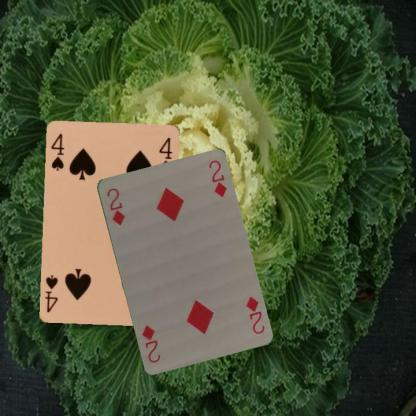2d: (243, 294, 266, 335), (104, 185, 126, 226)
4s: (48, 131, 66, 173)
